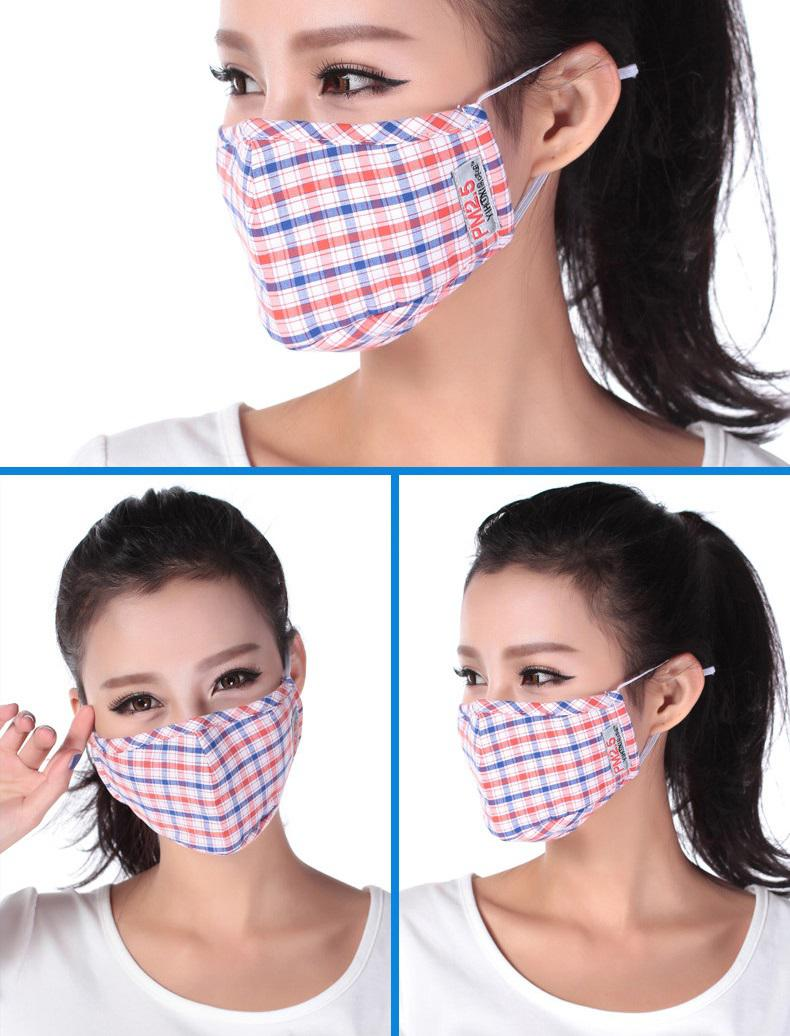OK: (216, 22, 549, 355), (449, 612, 674, 837), (71, 632, 289, 843)
